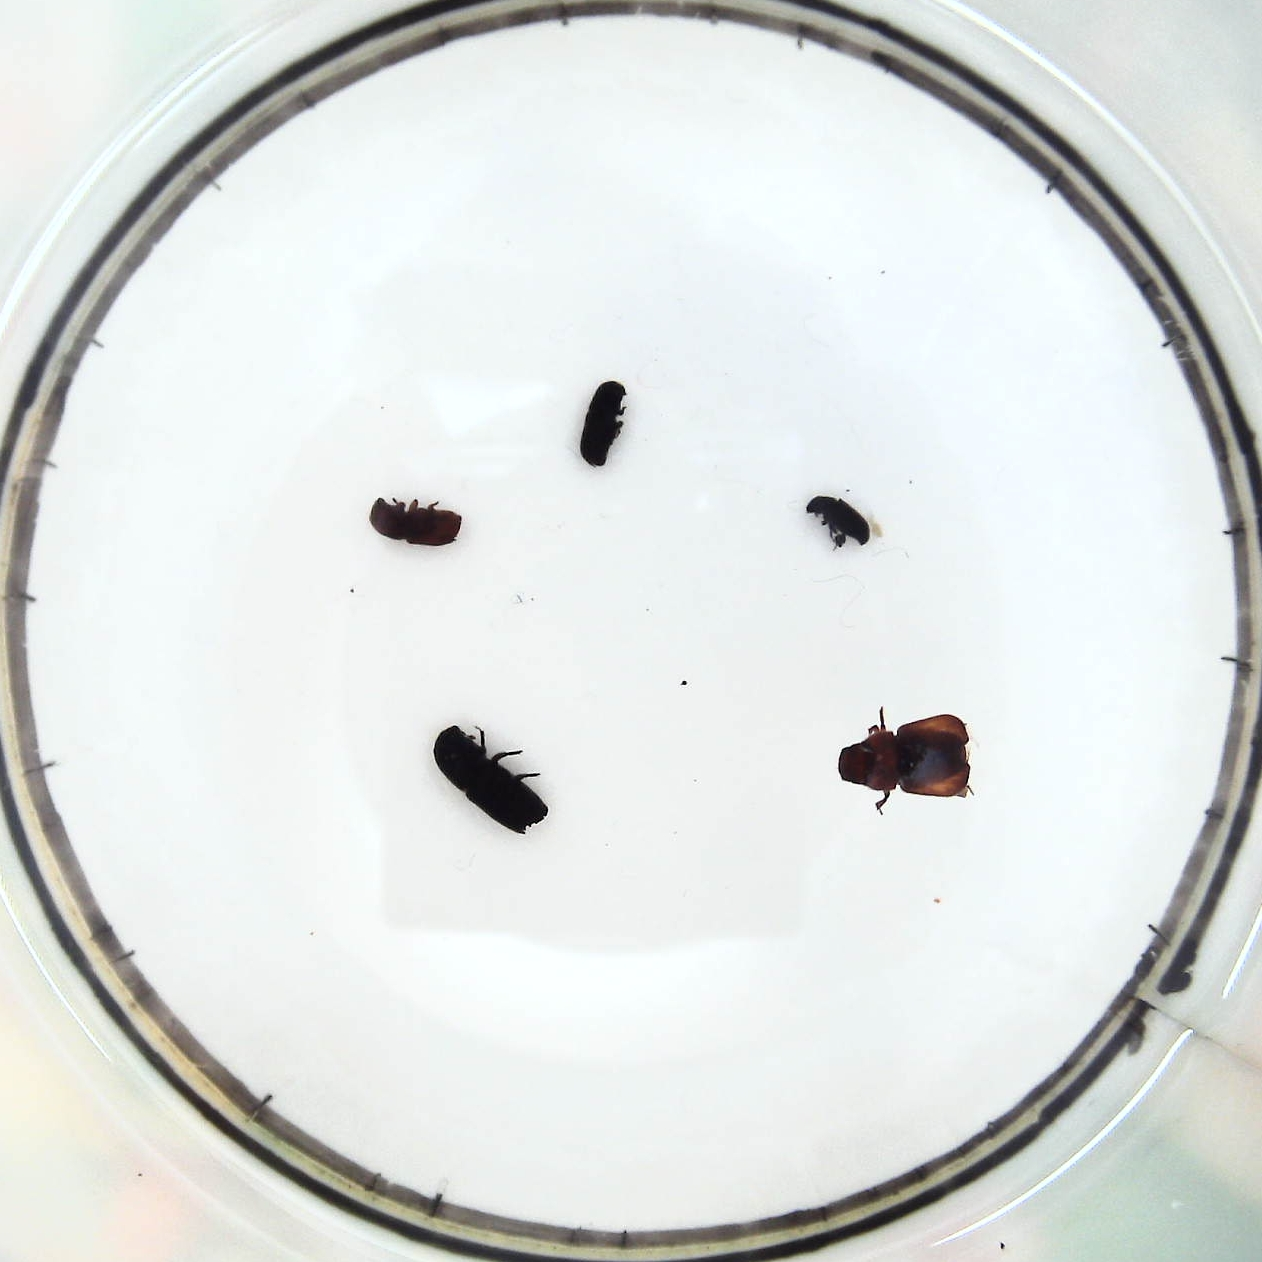Boerner: (430, 721, 545, 836)
Leconte: (841, 706, 974, 812)
Linnaeus: (368, 492, 463, 554)
armandi: (578, 378, 624, 469)
coleoptera: (806, 490, 878, 547)
